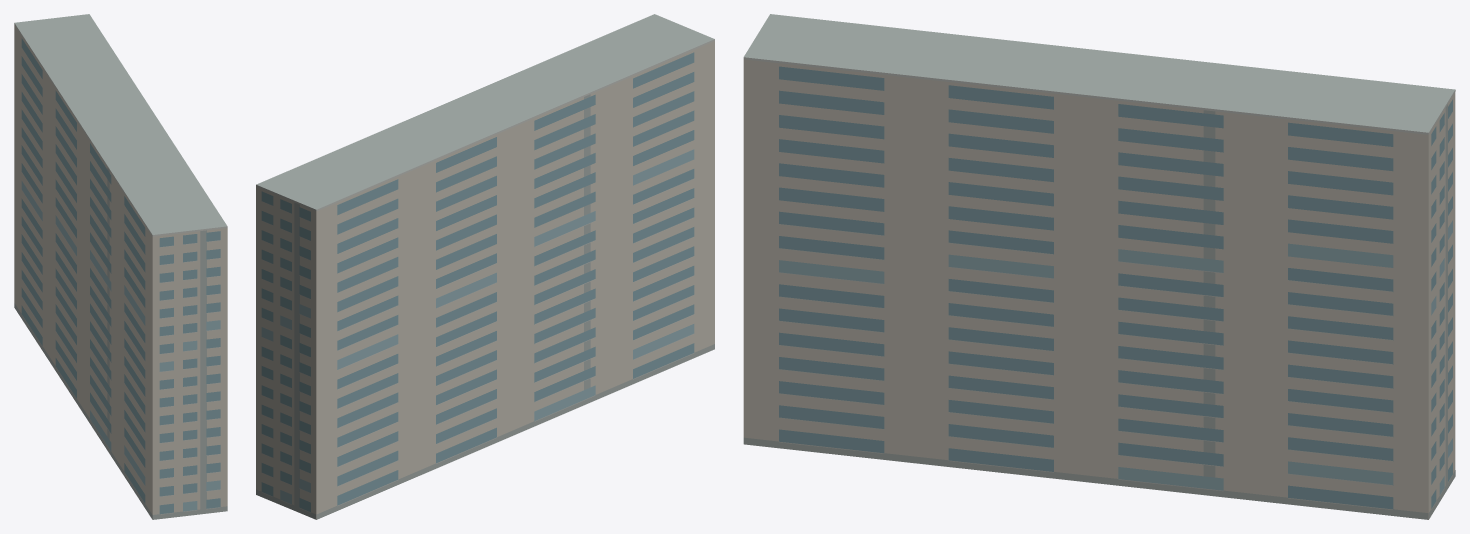
Rendered from residential-d2b475cf-6ed1-42f2-906d-5a6cacdf3f86.glb.
3 views of the same model, side by side, from view 1: azimuth 30°, elevation 25°; view 2: azimuth 150°, elevation 25°; view 3: azimuth 270°, elevation 25° (orthographic). The views are drawn at different scales.
Visible parts, largest first — view 1: residential-d2b475cf-6ed1-42f2-906d-5a6cacdf3f86.tmp; view 2: residential-d2b475cf-6ed1-42f2-906d-5a6cacdf3f86.tmp; view 3: residential-d2b475cf-6ed1-42f2-906d-5a6cacdf3f86.tmp.
Boxes of the visible parts, x1,y1,x2,y2 form: residential-d2b475cf-6ed1-42f2-906d-5a6cacdf3f86.tmp: (14, 14, 227, 519); residential-d2b475cf-6ed1-42f2-906d-5a6cacdf3f86.tmp: (256, 14, 714, 519); residential-d2b475cf-6ed1-42f2-906d-5a6cacdf3f86.tmp: (743, 14, 1455, 519).
Bounding box in the file's own units: 28.3 × 43 × 71.67.
